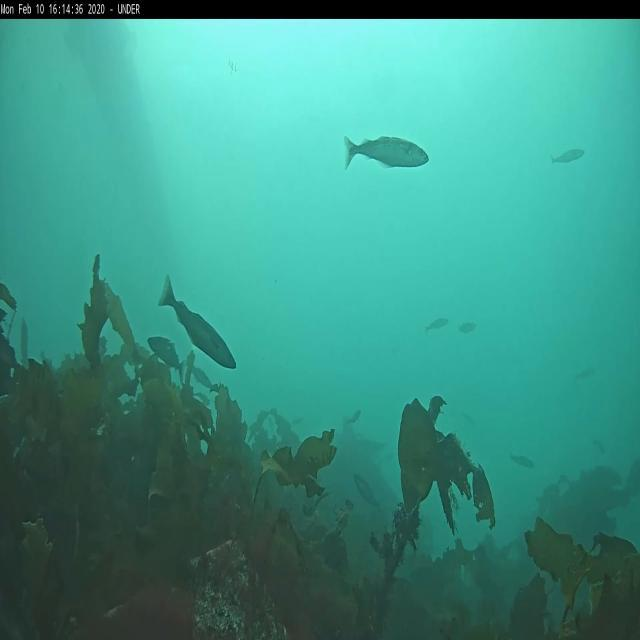fish: (158, 274, 234, 369), (343, 135, 427, 170), (148, 335, 188, 384), (354, 471, 379, 510), (550, 146, 587, 166), (190, 366, 214, 390), (425, 316, 448, 331), (511, 452, 534, 467), (457, 319, 477, 333), (574, 368, 596, 380)
